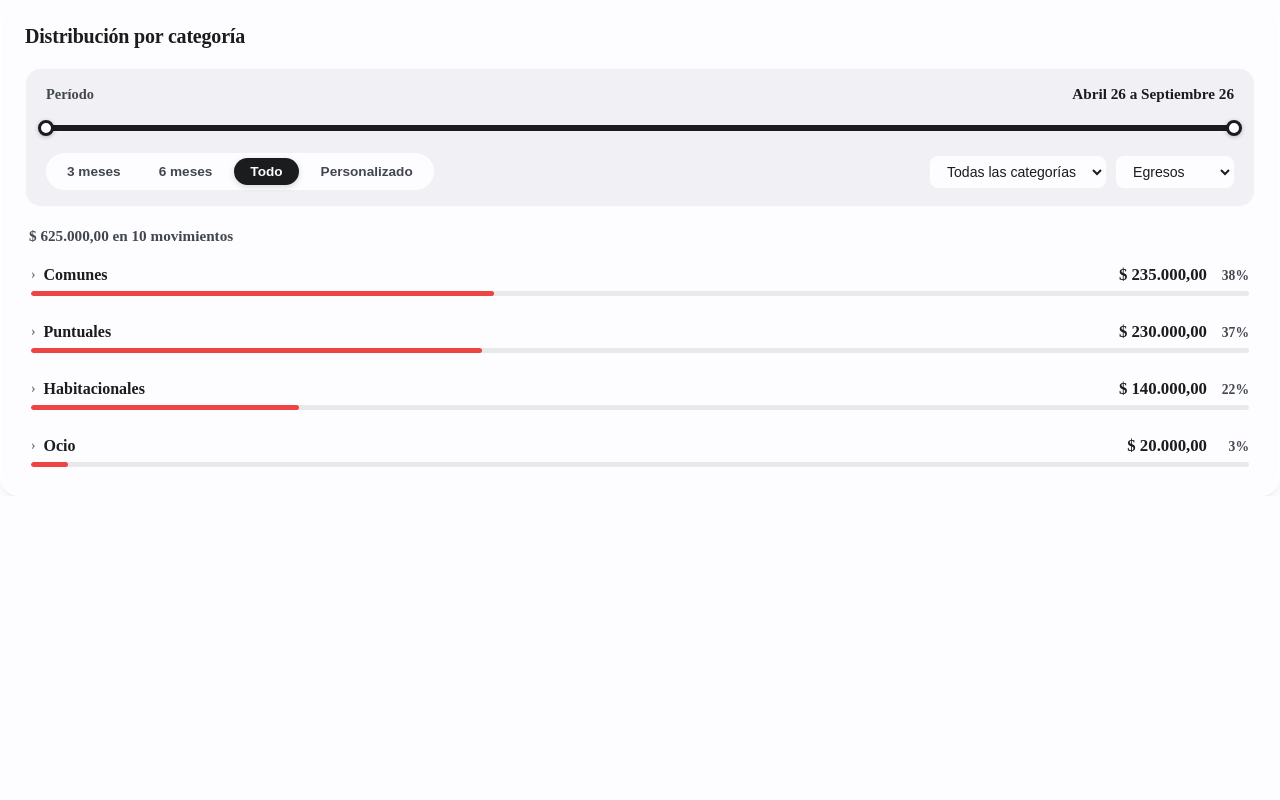
Test case: CategoryDistributionCard - In-situ Drill Down & Global Percentages › verifies subcategory percentages in sampleData sum up to category percentage of overall total
The image size is (1280, 800).
Click the button titled "Ver desglose de Comunes" at point(76, 274), box left=25, top=261, right=1255, bottom=300
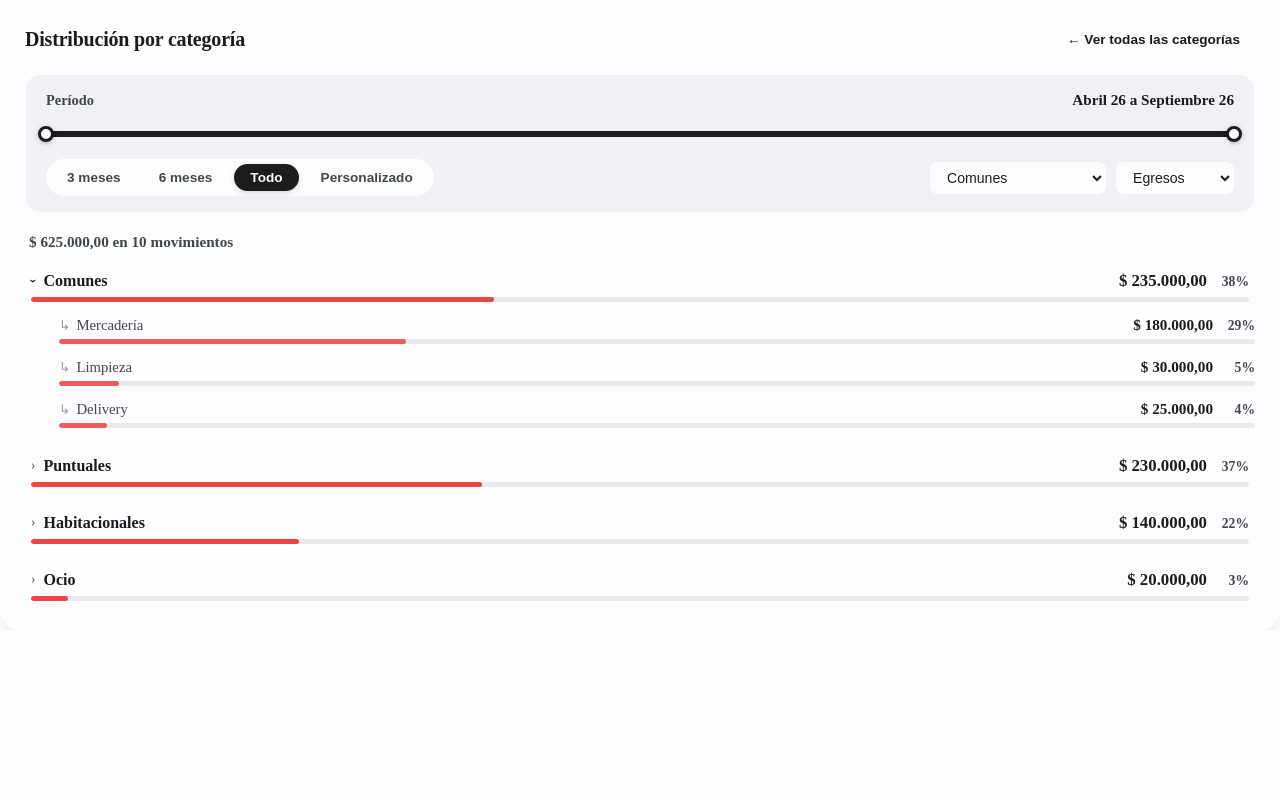
Check: the text "Mercadería" shows "29%", box left=59, top=316, right=1255, bottom=344
Check: the text "Limpieza" shows "5%", box left=59, top=358, right=1255, bottom=386
Check: the text "Delivery" shows "4%", box left=59, top=400, right=1255, bottom=428
